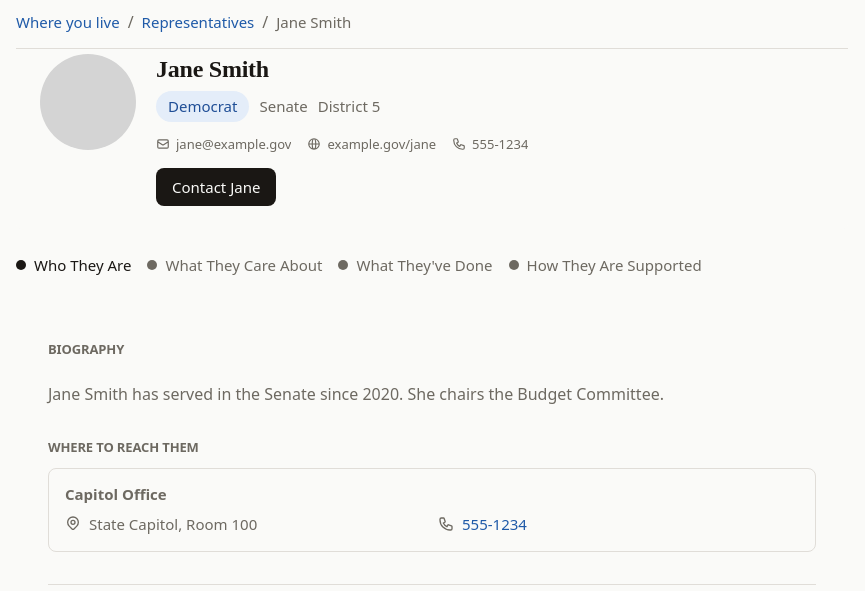
RepresentativeDetailPage › layer navigation › advances to What They've Done (layer 3) via CTA
What coordinates should you click on to do the following:
click the button "How They Are Supported"
I would click on:
 (605, 265)
Its box is [509, 254, 702, 277].
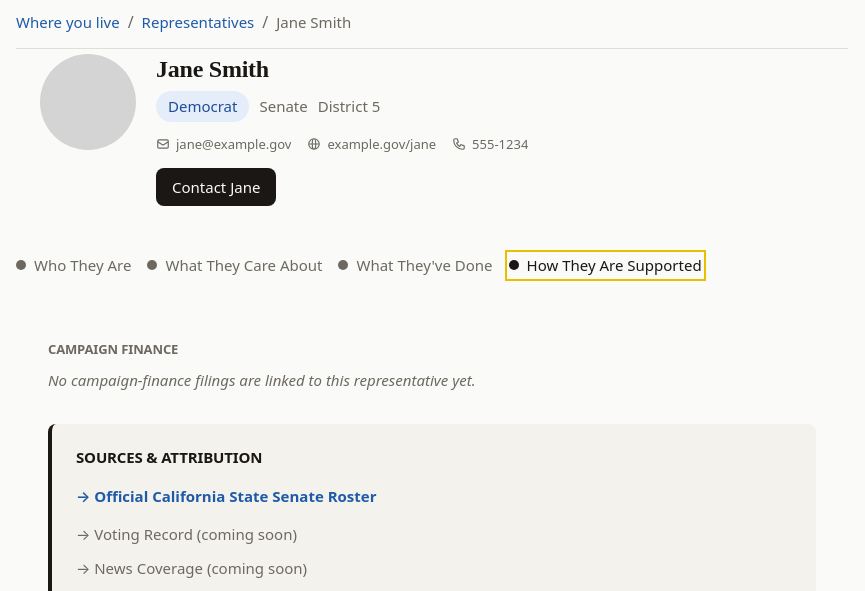
# Use the LayerNav to jump back to L3 first
What coordinates should you click on to do the following:
click the button "What They've Done"
I would click on:
 (416, 265)
Its box is [338, 254, 493, 277].
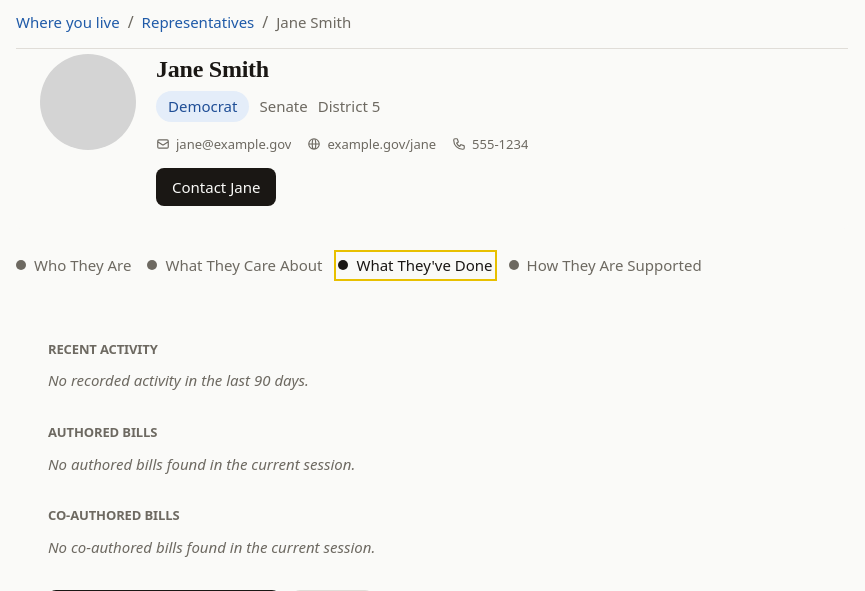
Result: the heading "Recent activity" is shown at [48, 340, 158, 358]
Result: the heading "Authored Bills" is shown at [48, 423, 157, 441]
